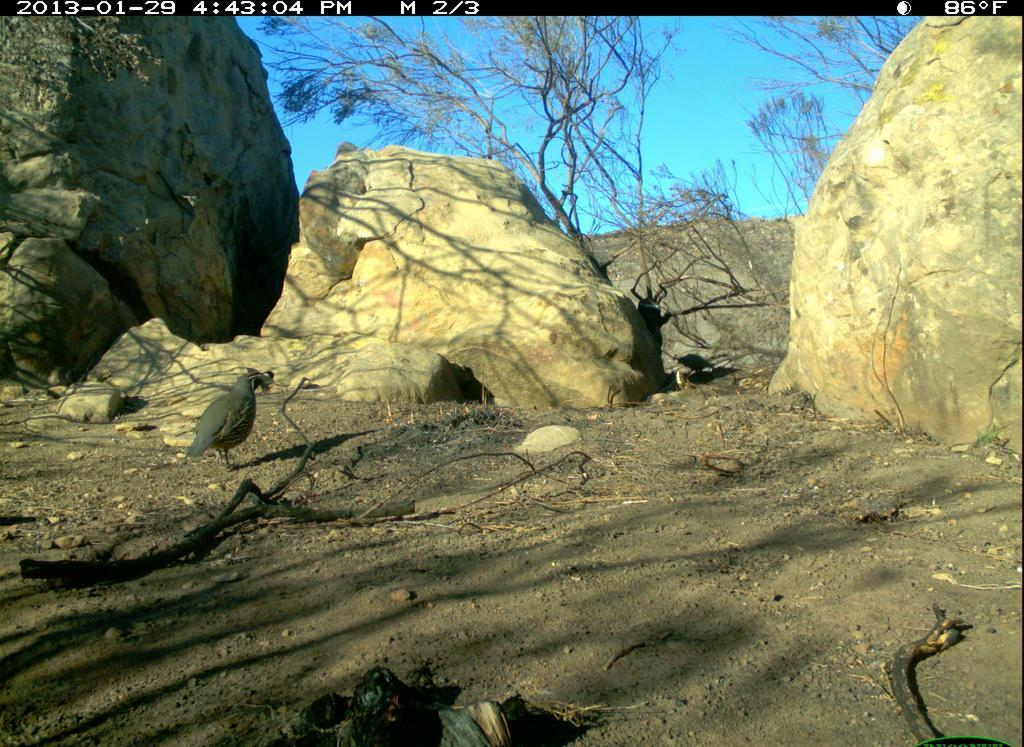bird: (182, 358, 277, 479)
